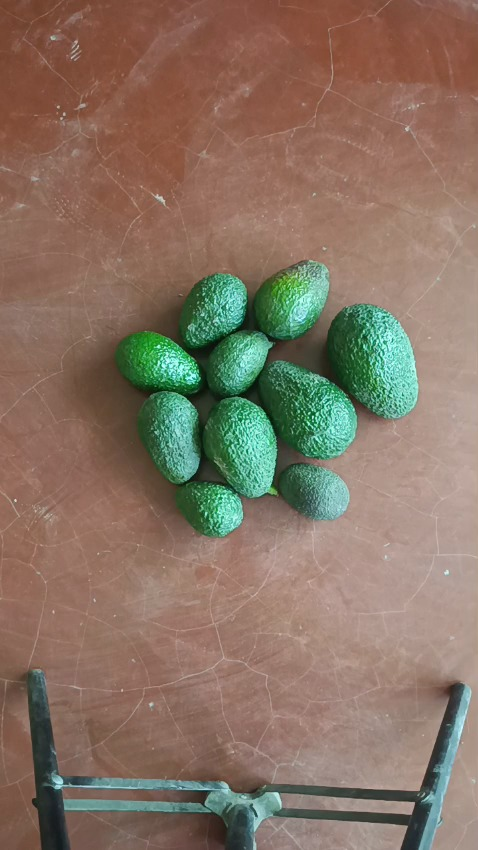Primera: (325, 303, 418, 417), (258, 360, 359, 459)
Segunda: (135, 390, 204, 485), (253, 260, 330, 341), (114, 331, 204, 396), (177, 273, 248, 350)
Tercera: (202, 397, 279, 497), (204, 330, 274, 398), (276, 462, 350, 519), (177, 479, 246, 535)
